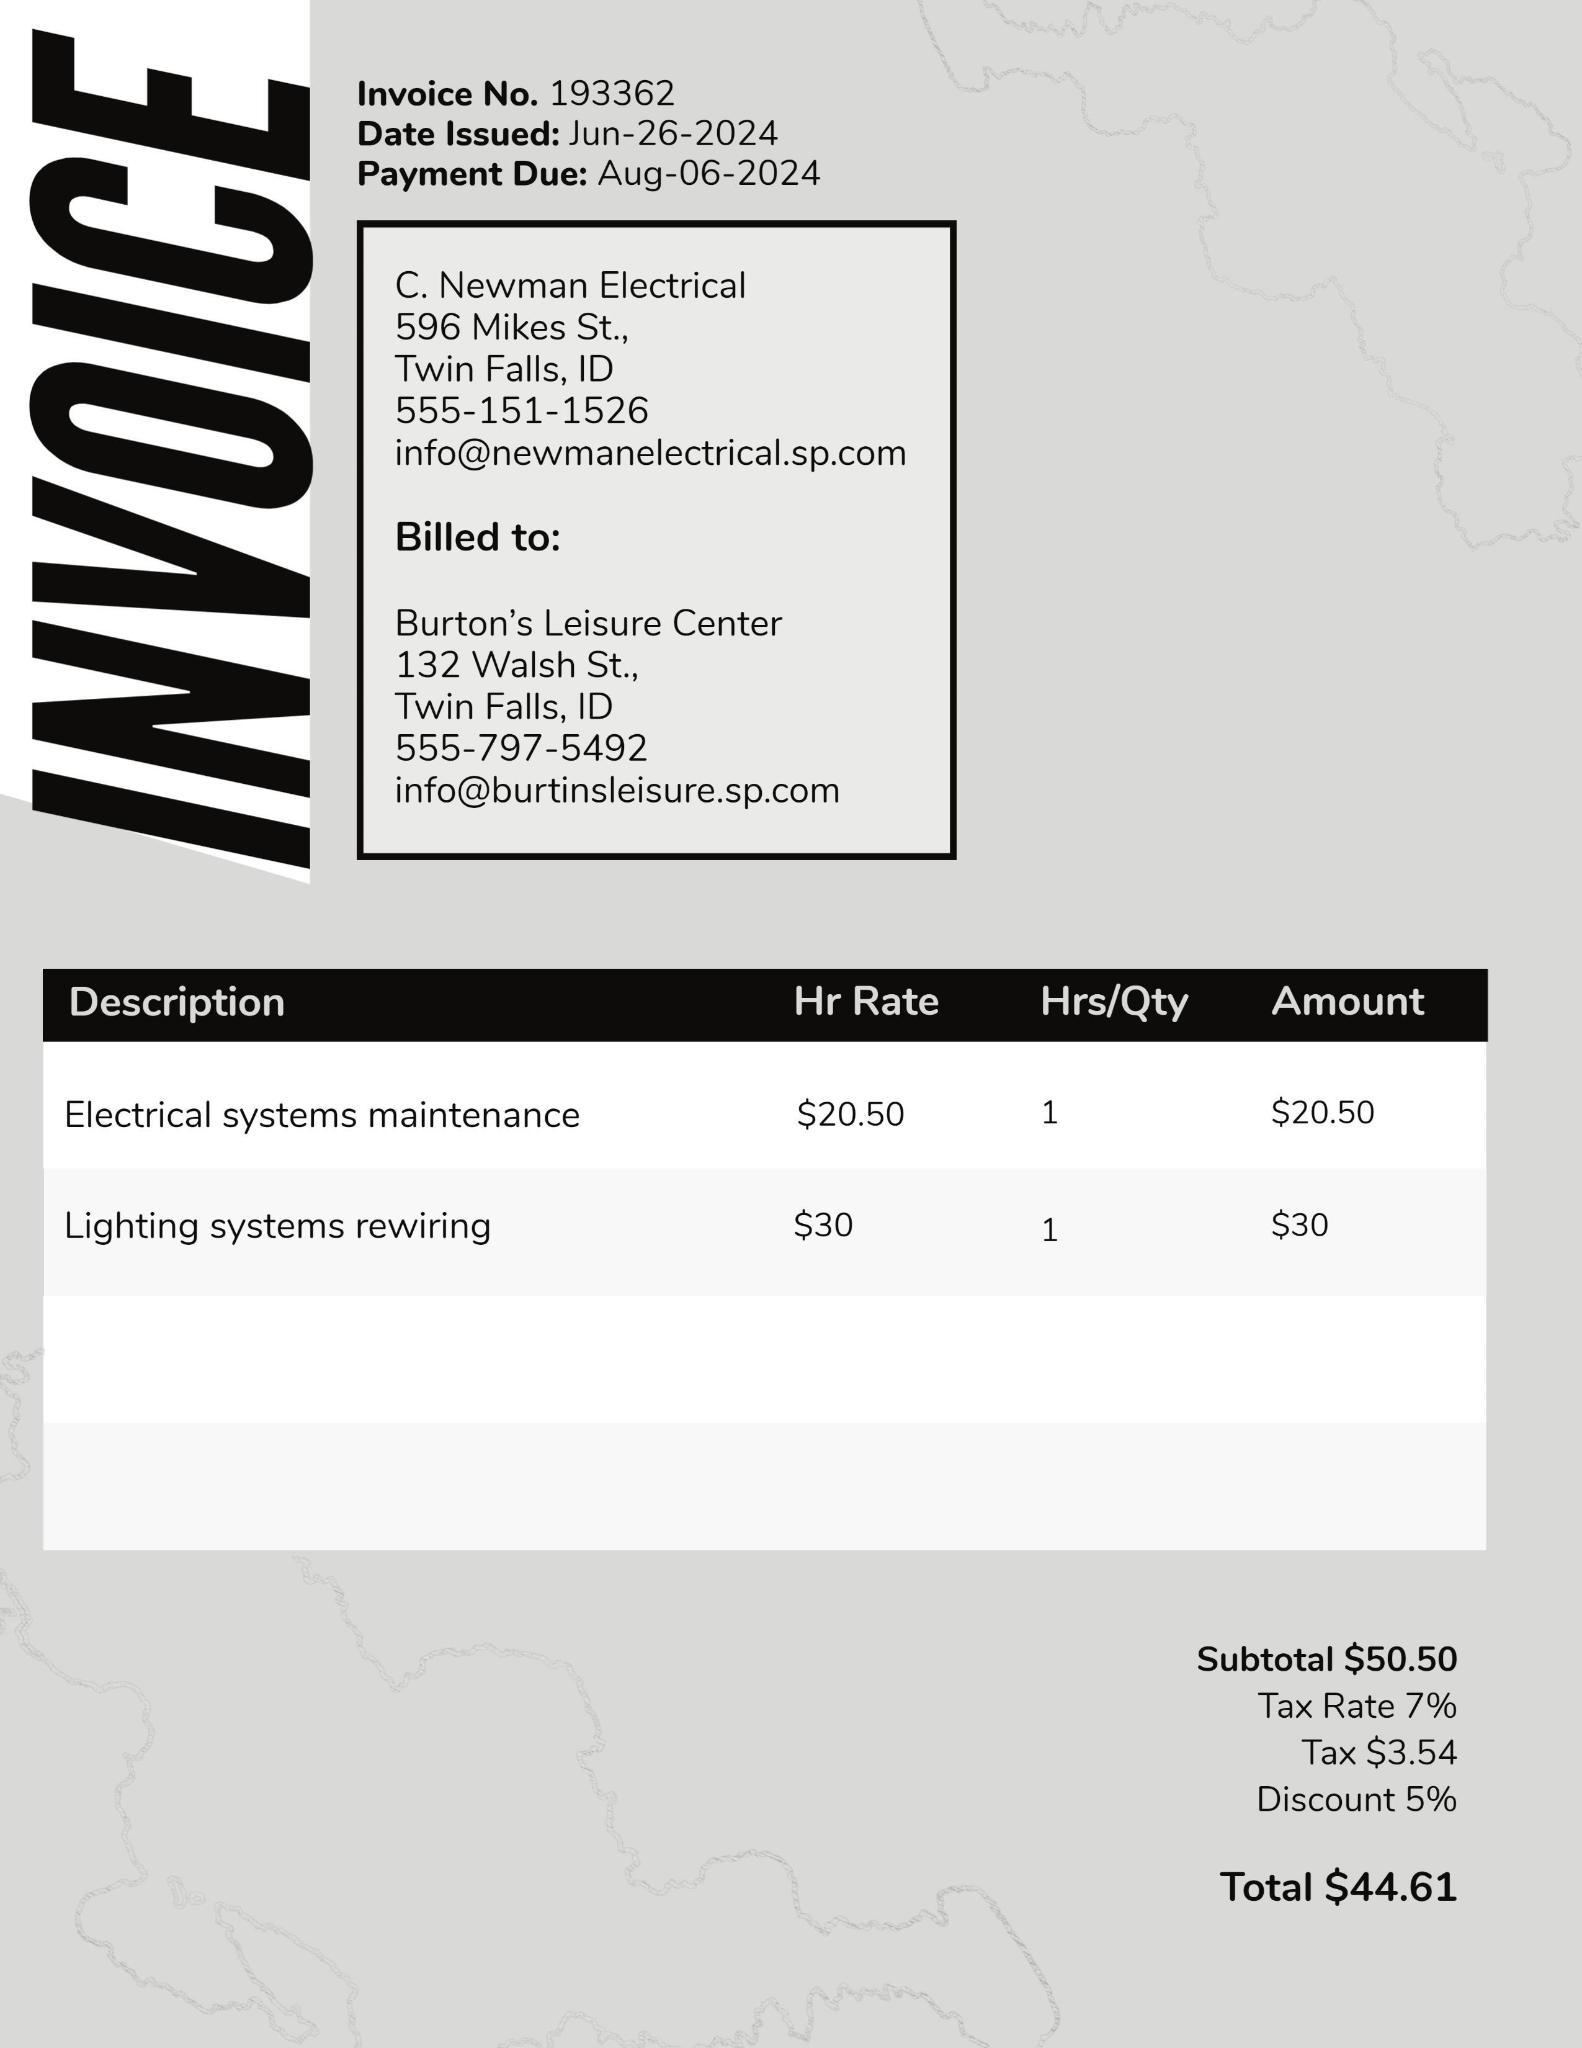ROI: (30, 960, 1442, 1277), (17, 20, 324, 895), (369, 507, 866, 816), (386, 249, 941, 477), (1152, 1606, 1502, 1948), (342, 56, 854, 194)
